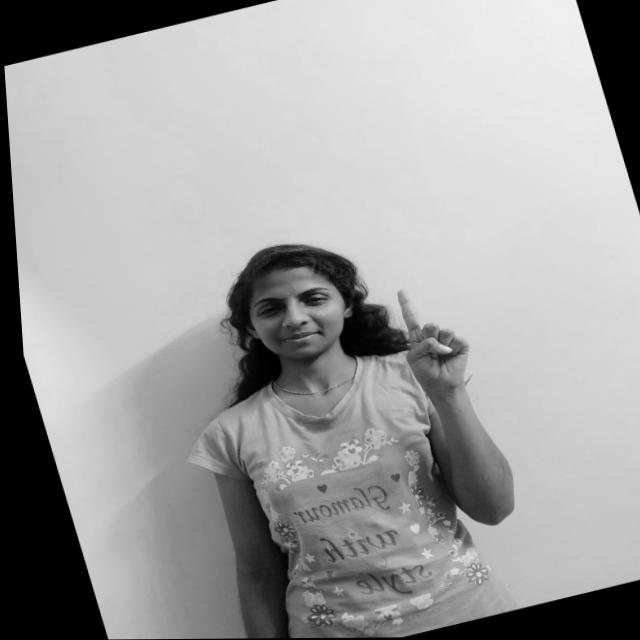Question: (372, 266, 491, 419)
